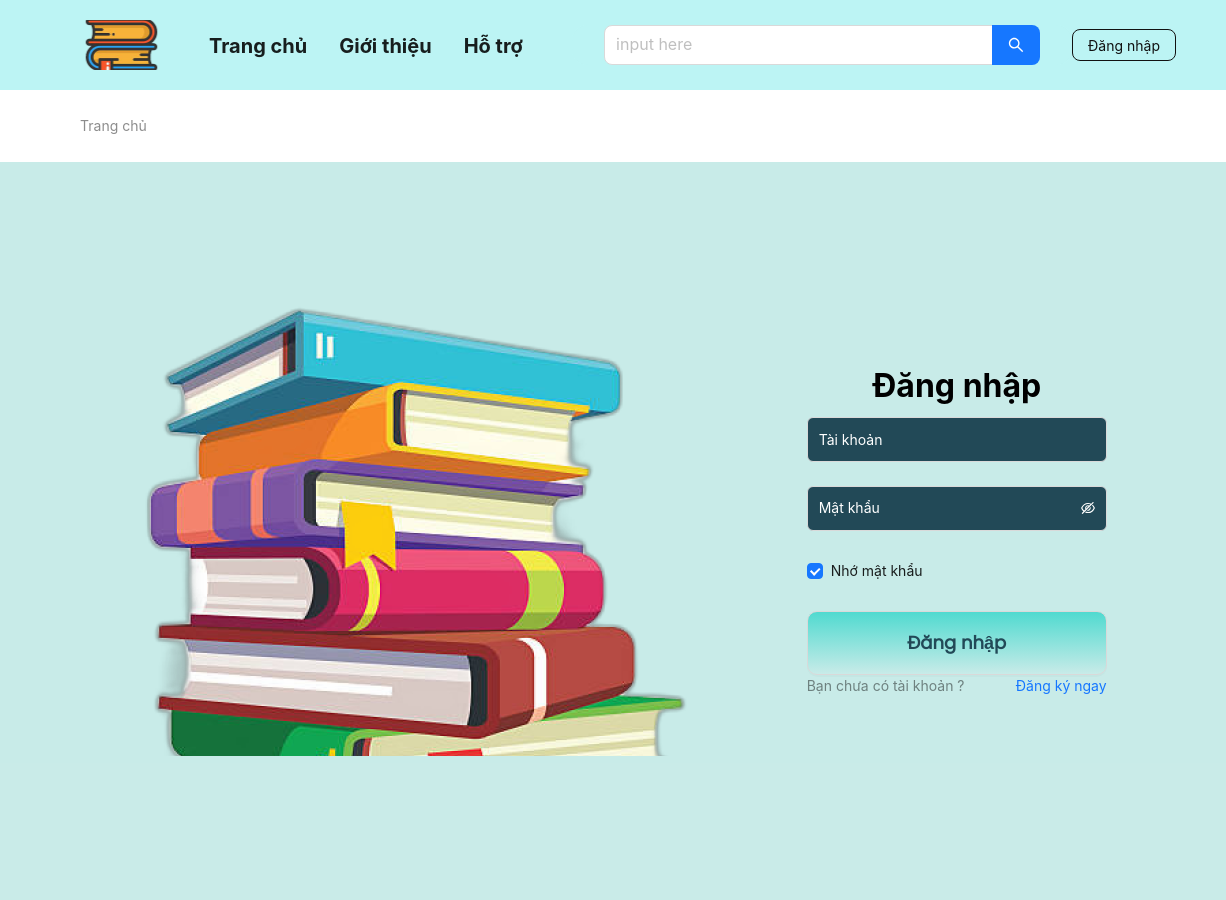
Spec màn hình chính › Có các mục Cộng đồng, sách và trong sách có các mục Kho sách, Sách yêu thích, Sách ẩn danh, Chợ sách
Type "lehuyhaianh0808@gmail.com" into the field with id "basic_username".
click(957, 440); type("lehuyhaianh0808@gmail.com")  # box [807,417,1107,462]
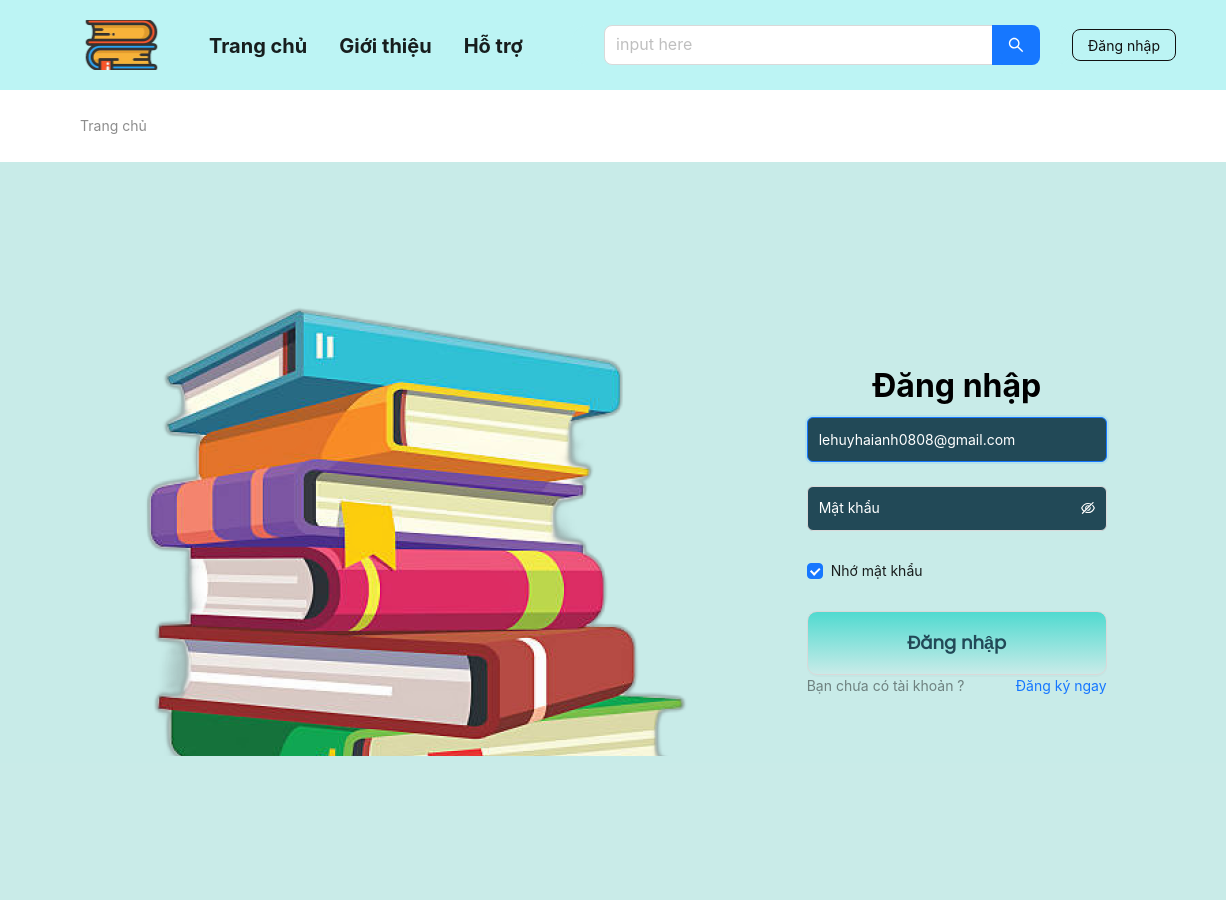
Type "123456" into the password field with id "basic_password".
click(948, 509); type("123456")  # box [819,491,1077,526]
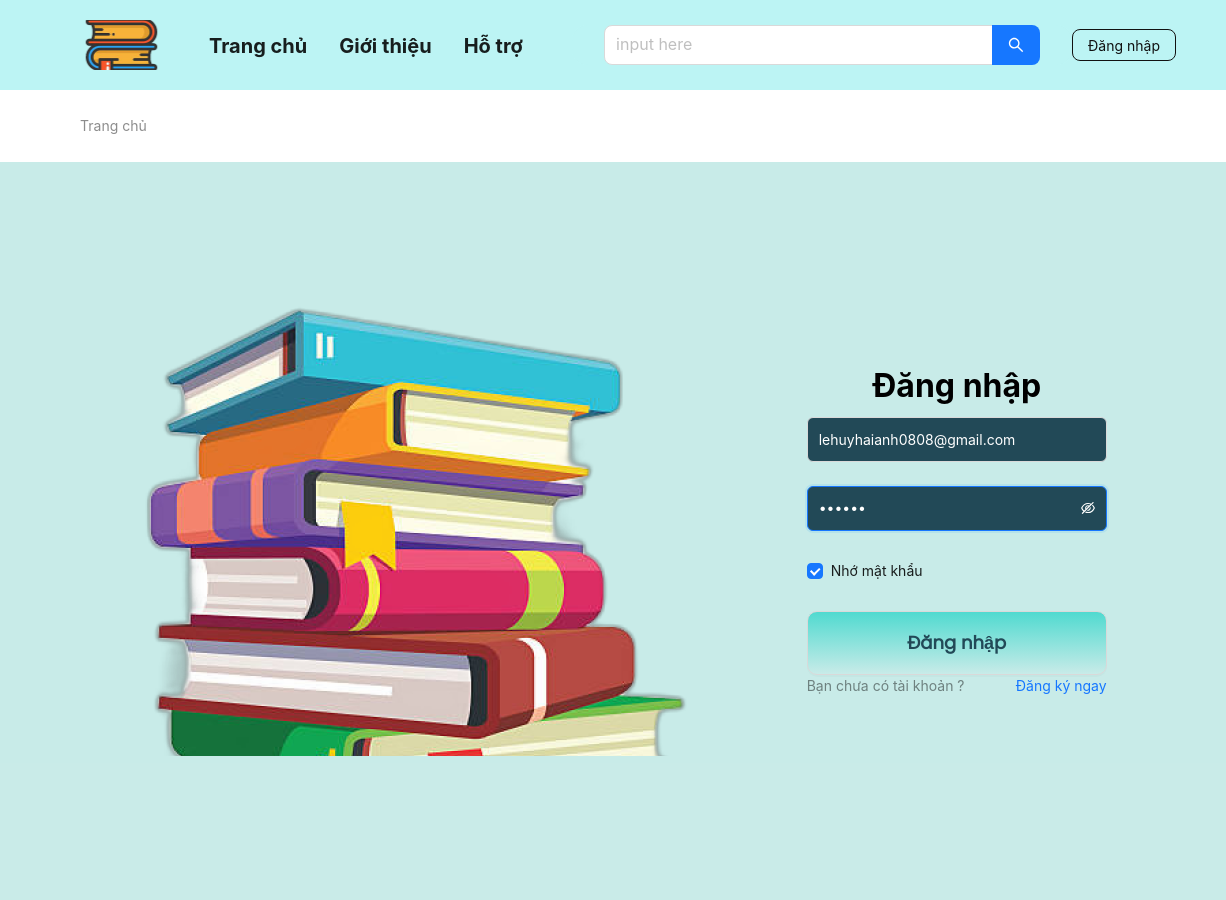
Click the checkbox with id "basic_remember".
click(814, 570)  # box [807,563,821,577]
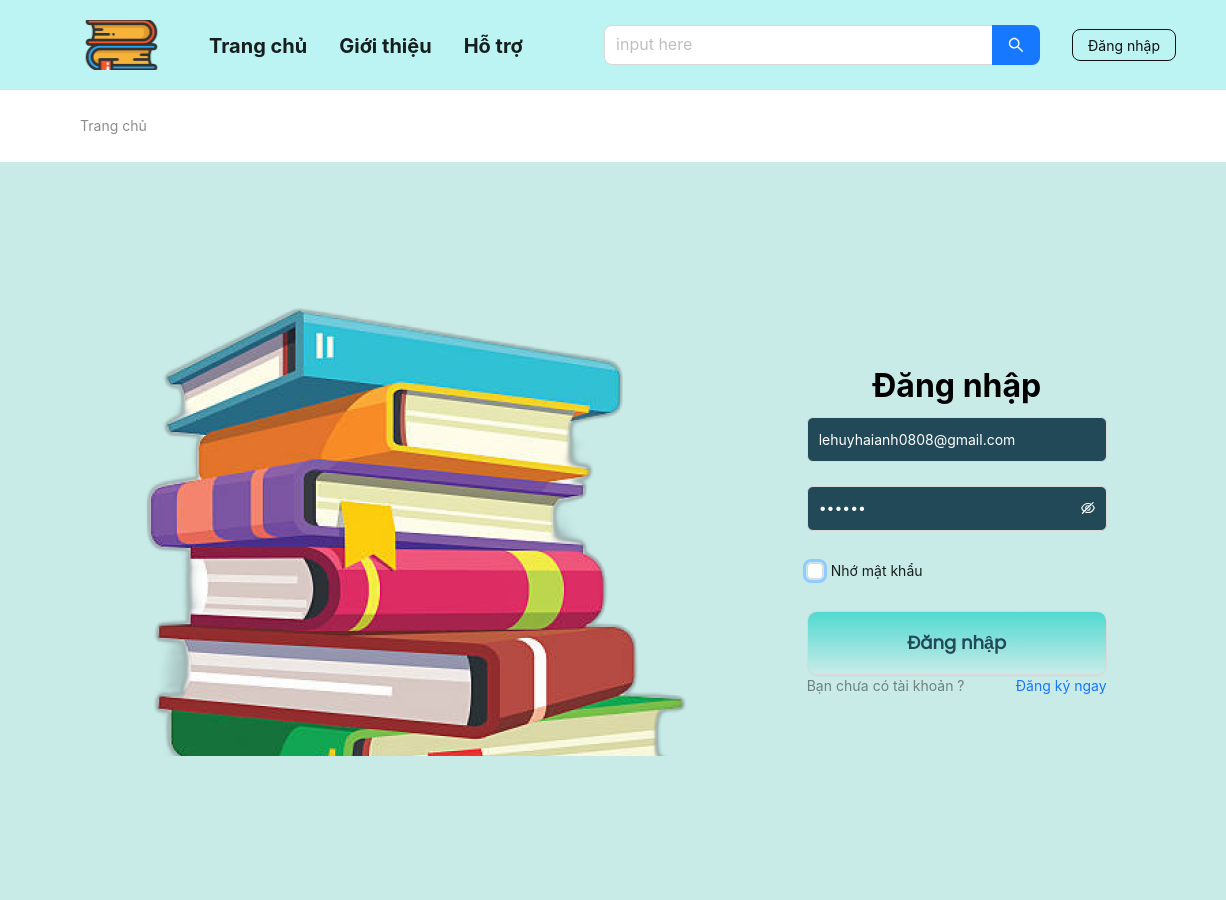
Click the button "Đăng nhập" below "Nhớ mật khẩu".
click(957, 643)  # box [807,611,1107,675]
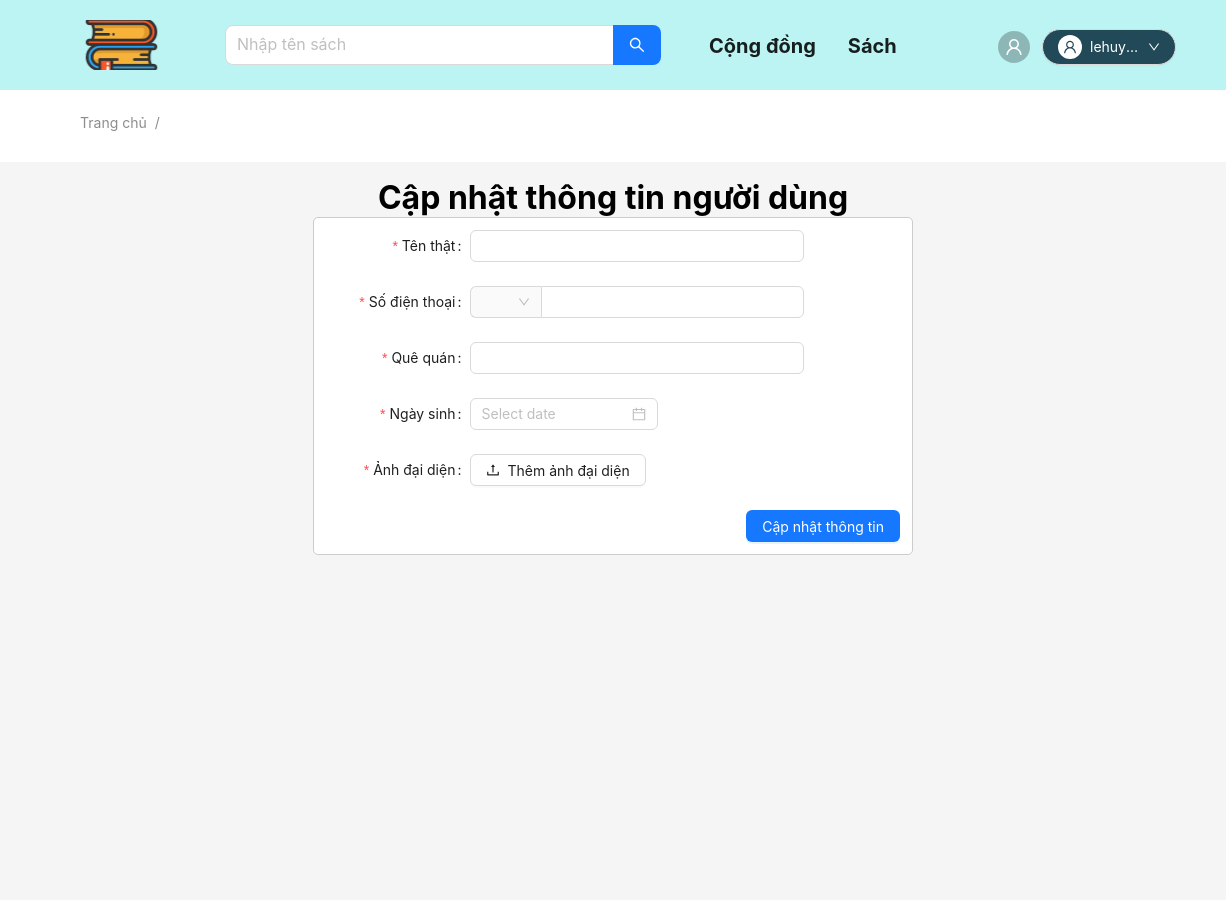
Expected: the text "Cộng đồng" is shown, [709,34,816,58]
Hover over the text "Sách".
mouse_move(873, 46)  # box [848,34,897,58]
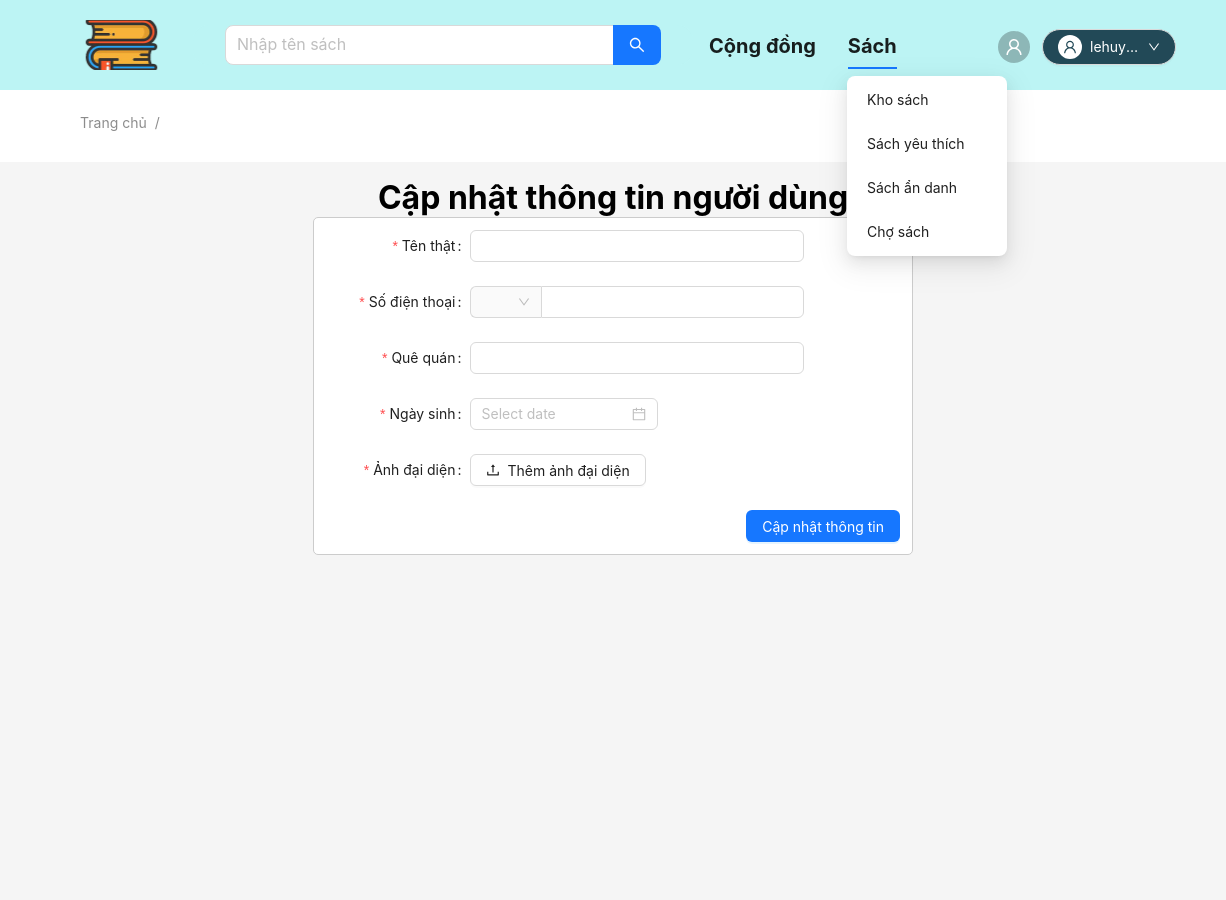
Expected: the link "Kho sách" is shown, [867,91,928,108]
Expected: the link "Sách yêu thích" is shown, [867,135,965,152]
Expected: the link "Sách ẩn danh" is shown, [867,179,957,196]
